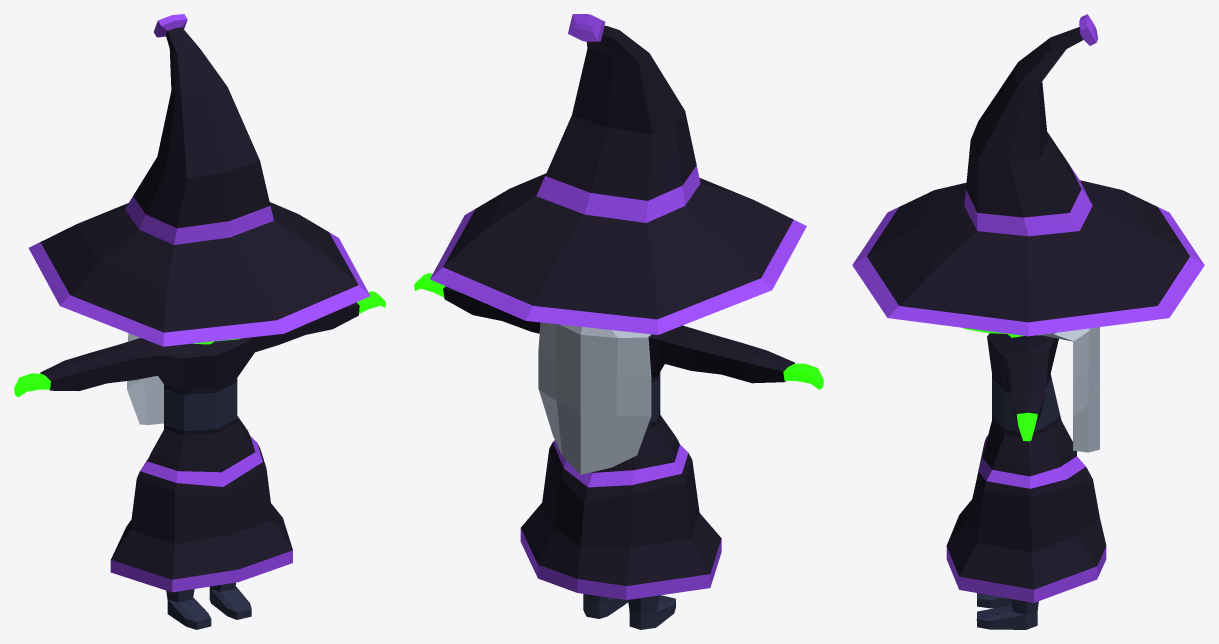
File: Witch.fbx
The picture shows the model from 3 angles, left to right: view 1: azimuth 30°, elevation 25°; view 2: azimuth 150°, elevation 25°; view 3: azimuth 270°, elevation 25°; orthographic projection. The views are drawn at different scales.
Parts seen in each view (by area): view 1: ChibiWitch; view 2: ChibiWitch; view 3: ChibiWitch.
Part boxes in pixels (x1,y1,x2,y2): ChibiWitch: (14,14,385,629); ChibiWitch: (414,14,823,629); ChibiWitch: (852,14,1204,629).
Bounding box in the file's own units: 5.43 × 8.07 × 4.33.
